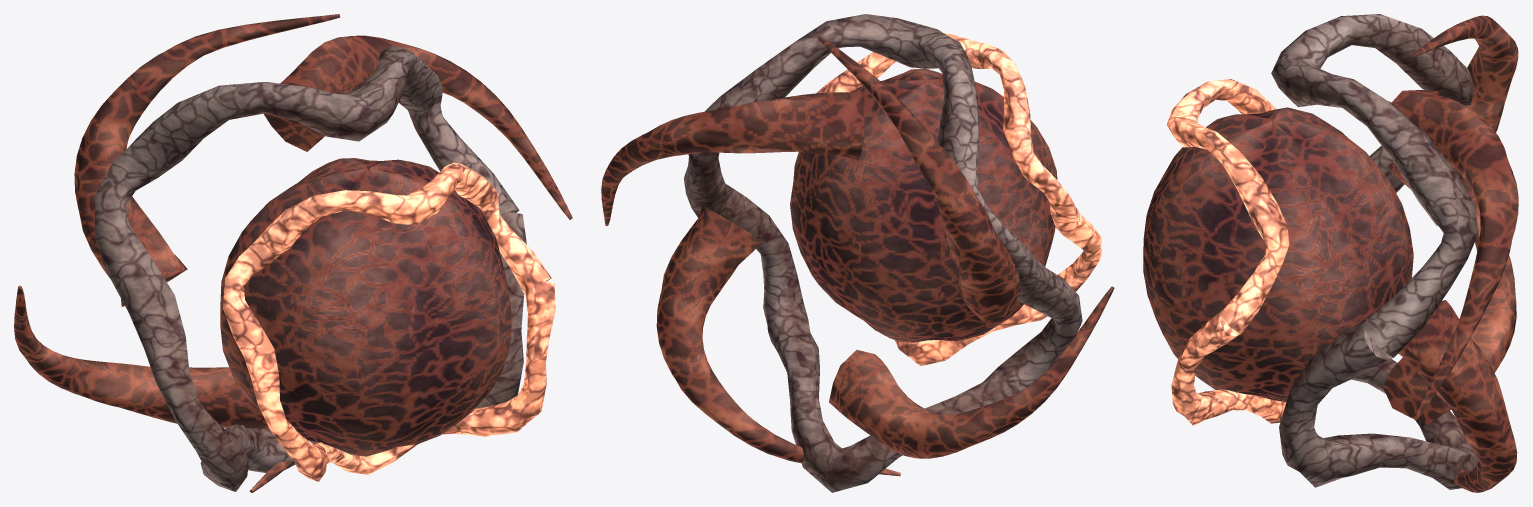
The model's file is world-eater.glb.
3 views of the same model, side by side, from view 1: azimuth 30°, elevation 25°; view 2: azimuth 150°, elevation 25°; view 3: azimuth 270°, elevation 25° (orthographic). The views are drawn at different scales.
Visible parts, largest first — view 1: world-eater_carapace, world-eater_rib, world-eater_membrane, world-eater_signal; view 2: world-eater_membrane, world-eater_carapace, world-eater_rib, world-eater_signal; view 3: world-eater_carapace, world-eater_rib, world-eater_membrane, world-eater_signal.
Part boxes in pixels (box(x1,y1,x2,y2)): world-eater_carapace: box(220, 158, 512, 456); world-eater_rib: box(94, 45, 526, 491); world-eater_membrane: box(14, 14, 572, 492); world-eater_signal: box(223, 162, 555, 481); world-eater_membrane: box(601, 36, 1114, 476); world-eater_carapace: box(790, 68, 1057, 342); world-eater_rib: box(684, 14, 1082, 492); world-eater_signal: box(816, 33, 1101, 365); world-eater_carapace: box(1143, 107, 1413, 401); world-eater_rib: box(1271, 14, 1479, 489); world-eater_membrane: box(1382, 15, 1518, 492); world-eater_signal: box(1167, 79, 1289, 425).
Bounding box in the file's own units: 1.99 × 1.59 × 1.2.
4 materials, 4 textured.
